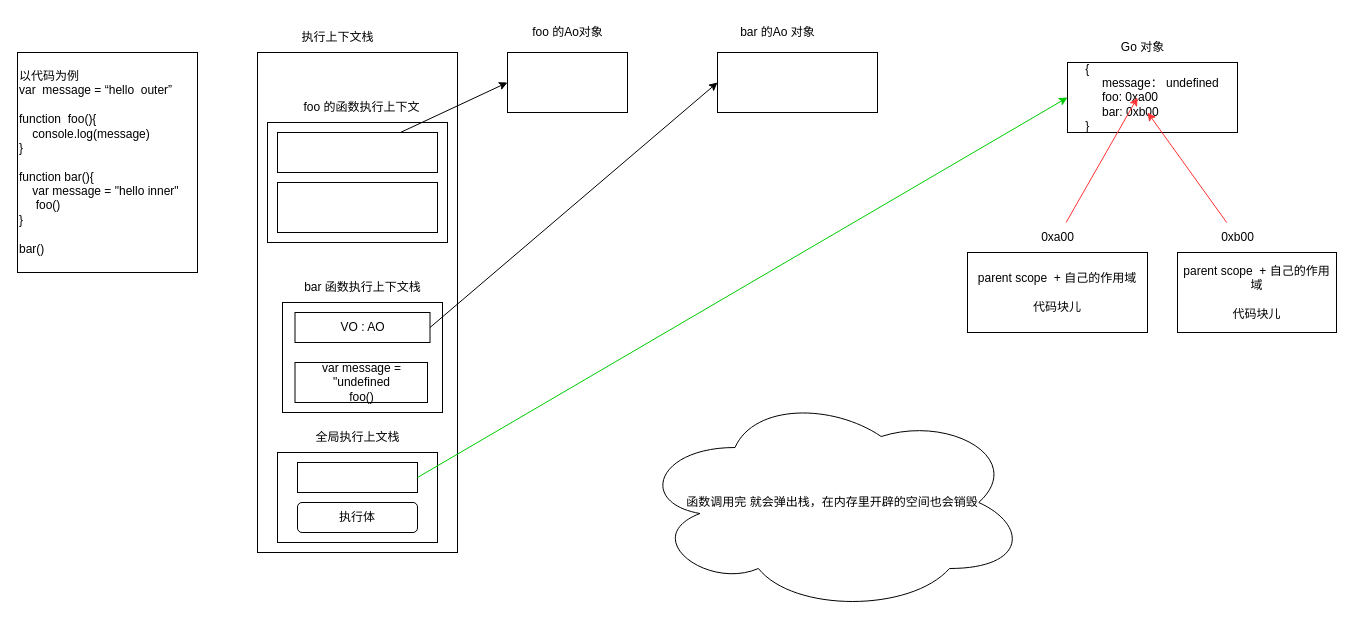
This 1354x630 diagram has some shape labels left out. The shapes that lost their labels are listed below. From the top down, each one's centre as x and y in pixels, then its label:
the point at 797,82: massage ： undefined
the point at 357,152: VO: foo 的Ao
the point at 357,207: 函数体
the point at 357,477: vo : 指向全局Go
